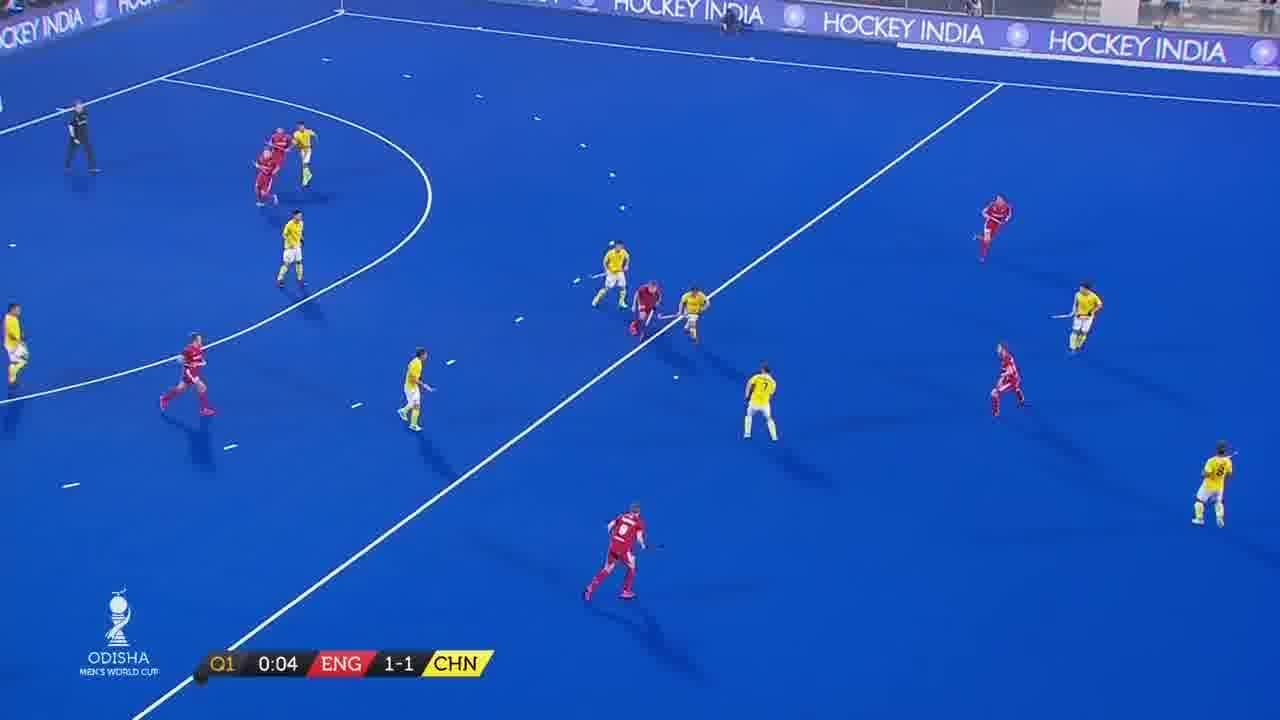ball: (668, 367, 688, 386)
